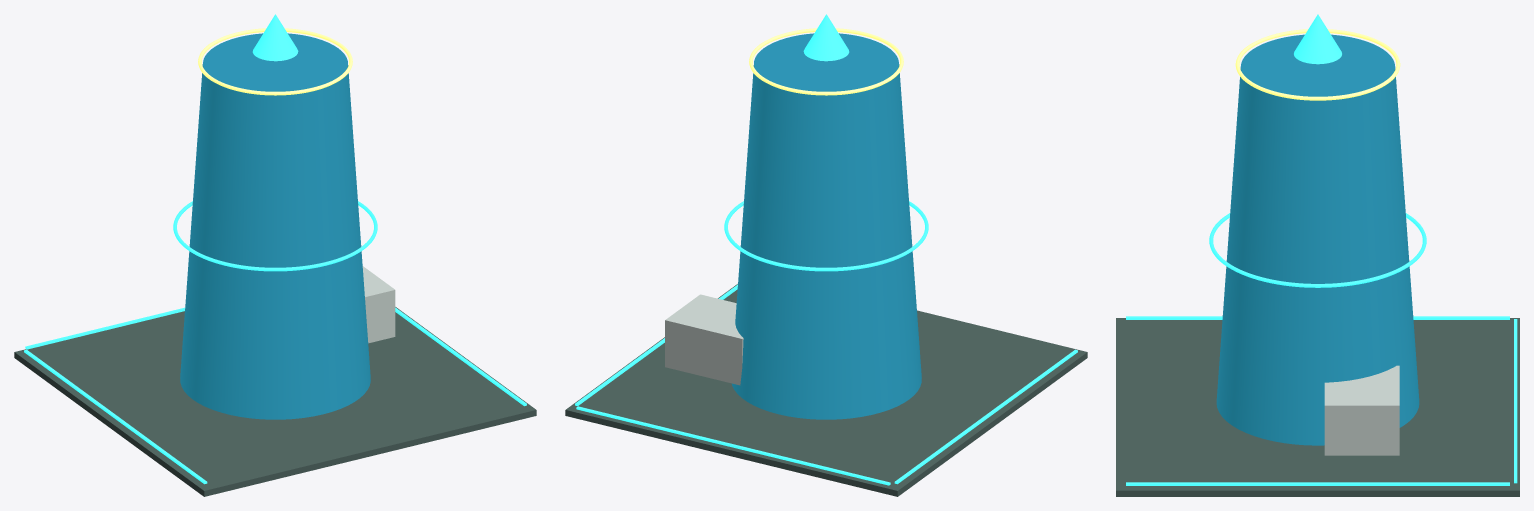
The model's file is tower-module.glb.
The picture shows the model from 3 angles, left to right: view 1: azimuth 30°, elevation 25°; view 2: azimuth 150°, elevation 25°; view 3: azimuth 270°, elevation 25°; orthographic projection. The views are drawn at different scales.
Parts seen in each view (by area): view 1: rj-tower-building-module-tower-core, rj-tower-building-module-service-pad, rj-tower-building-module-side-equipment-pod, rj-tower-building-module-roof-command-ring, rj-tower-building-module-mid-command-ring, rj-tower-building-module-beacon-cap, rj-tower-building-module-side-glow-rail-left, rj-tower-building-module-side-glow-rail-right, rj-tower-building-module-front-glow-rail; view 2: rj-tower-building-module-tower-core, rj-tower-building-module-service-pad, rj-tower-building-module-side-equipment-pod, rj-tower-building-module-roof-command-ring, rj-tower-building-module-front-glow-rail, rj-tower-building-module-mid-command-ring, rj-tower-building-module-beacon-cap, rj-tower-building-module-side-glow-rail-left, rj-tower-building-module-side-glow-rail-right; view 3: rj-tower-building-module-tower-core, rj-tower-building-module-service-pad, rj-tower-building-module-side-equipment-pod, rj-tower-building-module-roof-command-ring, rj-tower-building-module-side-glow-rail-right, rj-tower-building-module-beacon-cap, rj-tower-building-module-mid-command-ring, rj-tower-building-module-side-glow-rail-left, rj-tower-building-module-front-glow-rail.
Part boxes in pixels (x1,y1,x2,y2): rj-tower-building-module-tower-core: (180, 33, 370, 419); rj-tower-building-module-service-pad: (14, 307, 536, 496); rj-tower-building-module-side-equipment-pod: (362, 266, 395, 343); rj-tower-building-module-roof-command-ring: (198, 28, 352, 95); rj-tower-building-module-mid-command-ring: (173, 201, 377, 271); rj-tower-building-module-beacon-cap: (252, 14, 298, 61); rj-tower-building-module-side-glow-rail-left: (24, 349, 207, 484); rj-tower-building-module-side-glow-rail-right: (395, 307, 526, 406); rj-tower-building-module-front-glow-rail: (25, 307, 185, 349); rj-tower-building-module-tower-core: (731, 33, 921, 419); rj-tower-building-module-service-pad: (565, 284, 1087, 496); rj-tower-building-module-side-equipment-pod: (665, 294, 743, 385); rj-tower-building-module-roof-command-ring: (749, 28, 903, 95); rj-tower-building-module-front-glow-rail: (576, 406, 890, 485); rj-tower-building-module-mid-command-ring: (724, 201, 928, 271); rj-tower-building-module-beacon-cap: (803, 14, 849, 61); rj-tower-building-module-side-glow-rail-left: (894, 349, 1077, 484); rj-tower-building-module-side-glow-rail-right: (575, 284, 737, 406); rj-tower-building-module-tower-core: (1216, 34, 1419, 445); rj-tower-building-module-service-pad: (1116, 318, 1519, 496); rj-tower-building-module-side-equipment-pod: (1324, 365, 1399, 455); rj-tower-building-module-roof-command-ring: (1235, 29, 1400, 100); rj-tower-building-module-side-glow-rail-right: (1126, 482, 1509, 485); rj-tower-building-module-beacon-cap: (1294, 14, 1341, 64); rj-tower-building-module-mid-command-ring: (1209, 213, 1426, 287); rj-tower-building-module-side-glow-rail-left: (1126, 316, 1509, 319); rj-tower-building-module-front-glow-rail: (1514, 319, 1517, 483).
Size of the model in its own units: 9.25 by 9.92 by 9.15.
